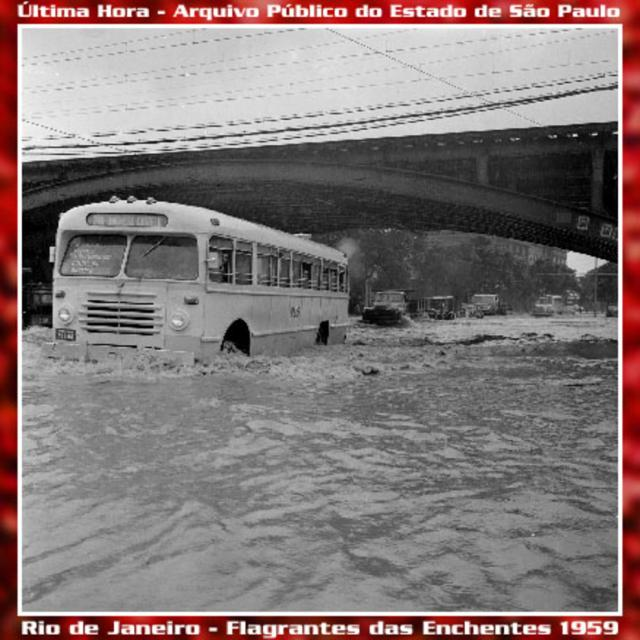Buses: (50, 193, 352, 365)
